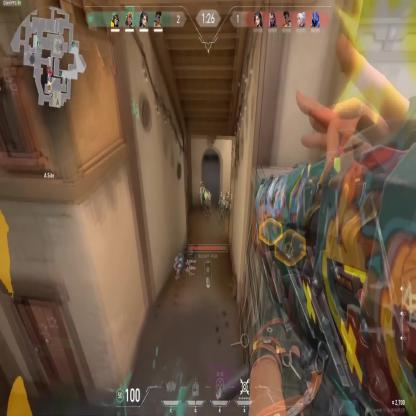enemy: (203, 187, 211, 217), (217, 191, 225, 220), (199, 183, 206, 214), (224, 189, 232, 216)
enemy_head: (206, 191, 210, 196), (220, 192, 223, 198), (200, 183, 202, 187), (227, 190, 228, 193)
